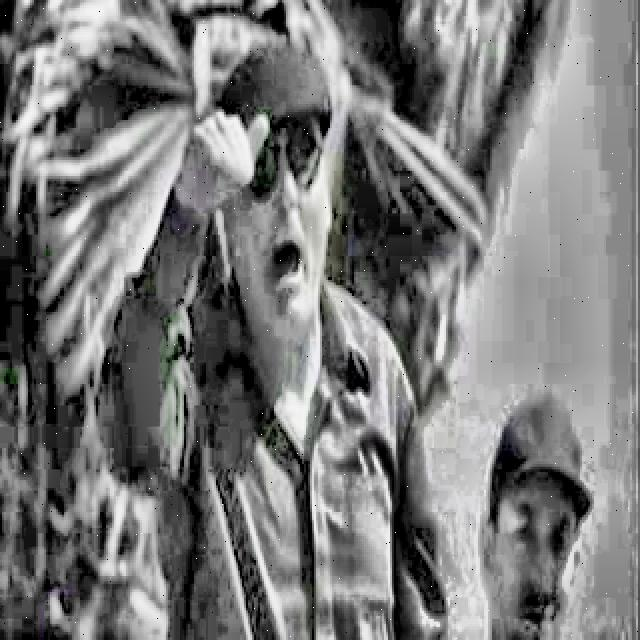T: (98, 32, 446, 637)
